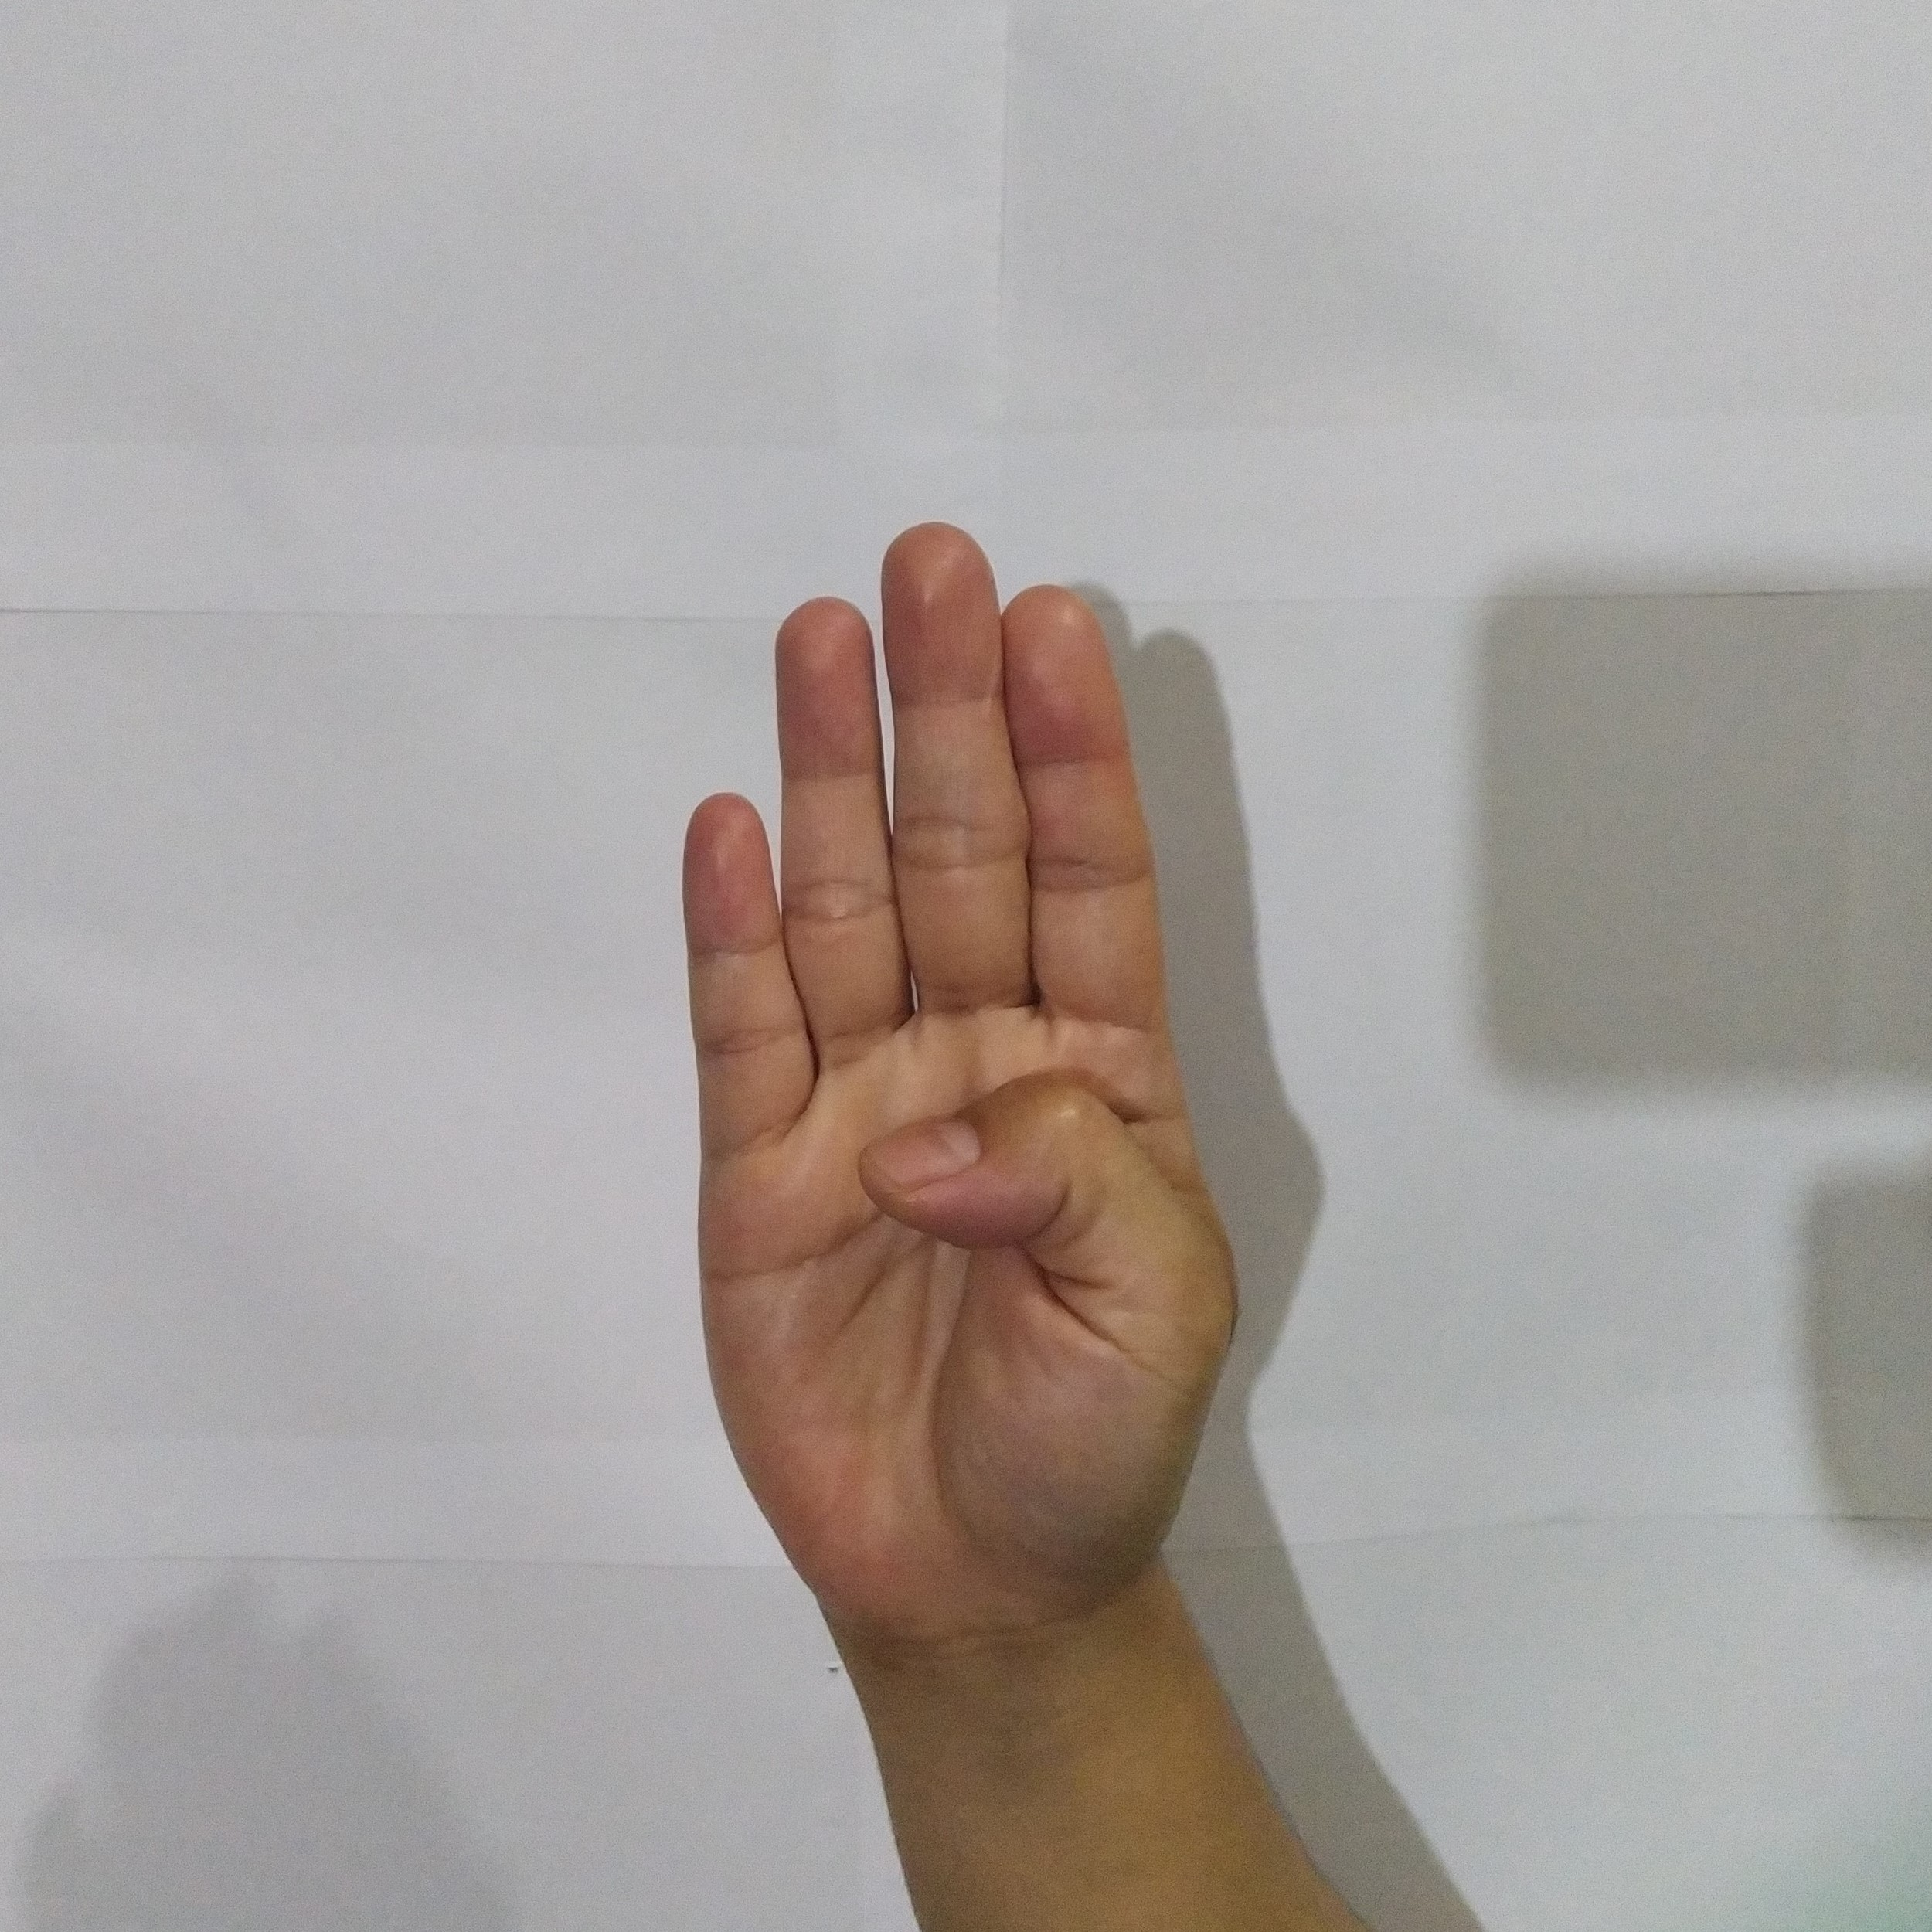B: (663, 497, 1258, 1615)
